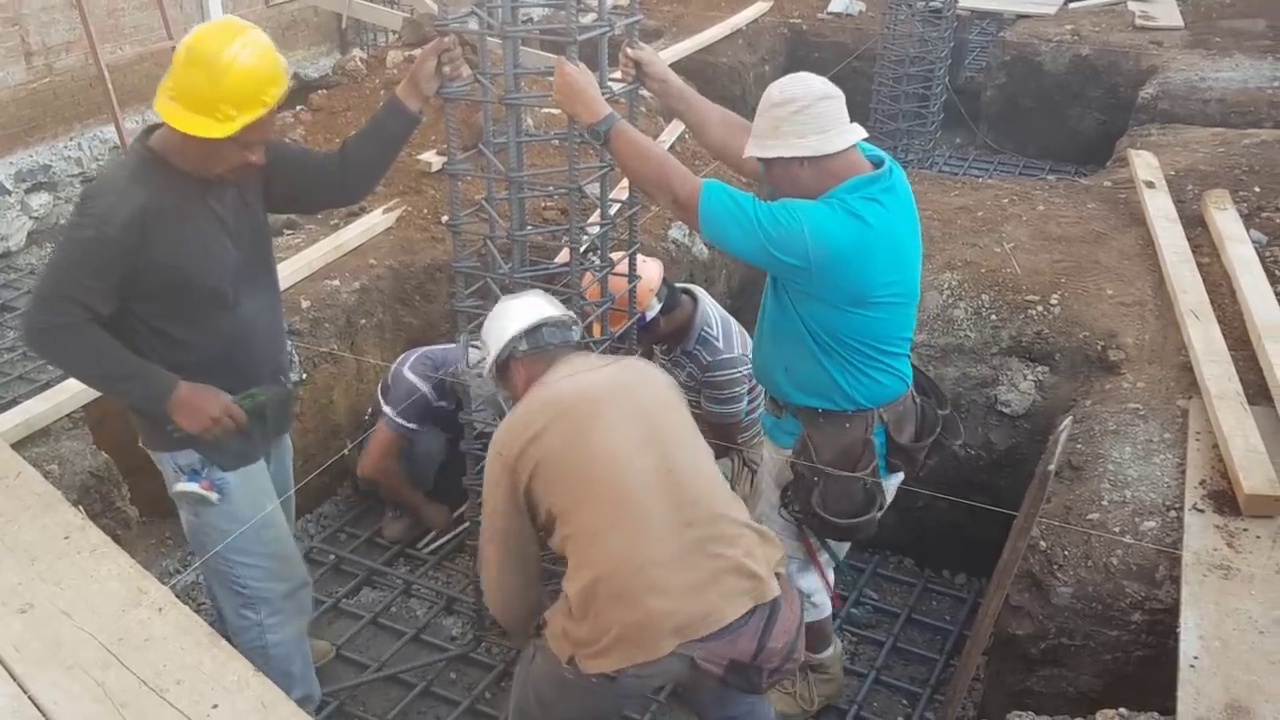helmet: (142, 11, 297, 141), (480, 288, 571, 392), (590, 249, 663, 342)
helmet-off: (732, 72, 875, 203)
helmet-on: (142, 12, 297, 184), (482, 276, 589, 413), (590, 247, 700, 357)
person: (548, 38, 920, 717), (25, 9, 364, 672), (477, 279, 784, 715), (592, 244, 771, 498), (363, 330, 503, 559)
